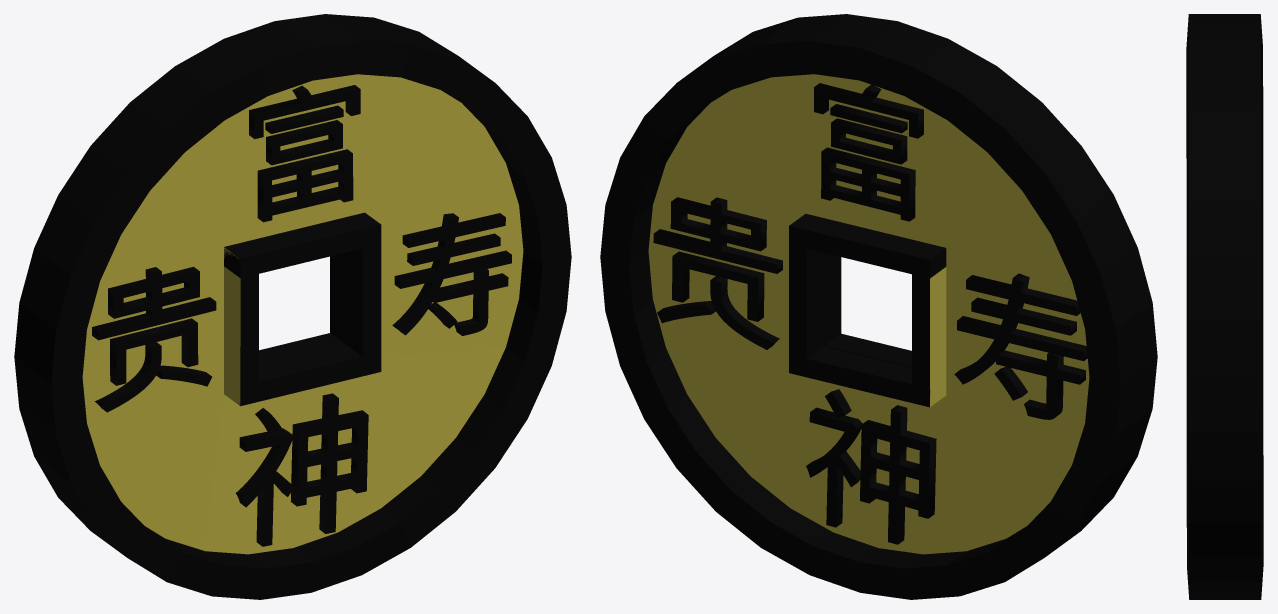
The model's file is Coin.fbx.
3 views of the same model, side by side, from view 1: azimuth 30°, elevation 25°; view 2: azimuth 150°, elevation 25°; view 3: azimuth 270°, elevation 25° (orthographic). The views are drawn at different scales.
Visible parts, largest first — view 1: Цилиндр, Текст.006, Текст, Текст.002, Текст.004; view 2: Цилиндр, Текст.003, Текст.005, Текст.007, Текст.001; view 3: Цилиндр.
Boxes of the visible parts, x1,y1,x2,y2 form: Цилиндр: [14, 14, 571, 599]; Текст.006: [236, 393, 368, 546]; Текст: [249, 85, 360, 222]; Текст.002: [92, 266, 216, 412]; Текст.004: [392, 213, 511, 335]; Цилиндр: [600, 14, 1157, 599]; Текст.003: [653, 197, 782, 349]; Текст.005: [954, 273, 1087, 419]; Текст.007: [806, 389, 936, 544]; Текст.001: [814, 83, 923, 221]; Цилиндр: [1186, 14, 1263, 599].
Size of the model in its own units: 227 by 227 by 29.86.
